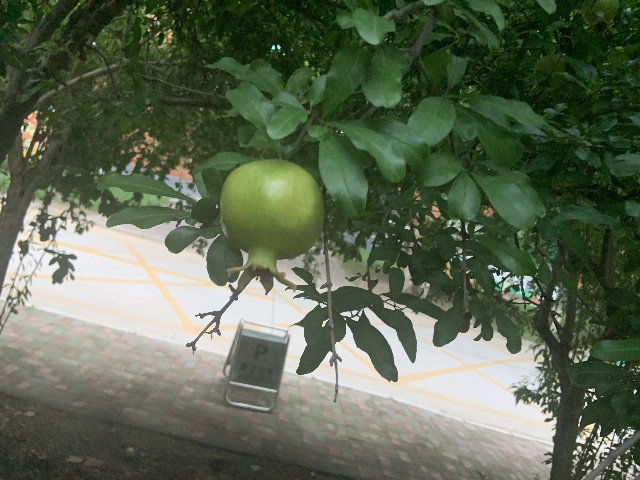mid-growth: (219, 159, 324, 294), (582, 0, 617, 36)
